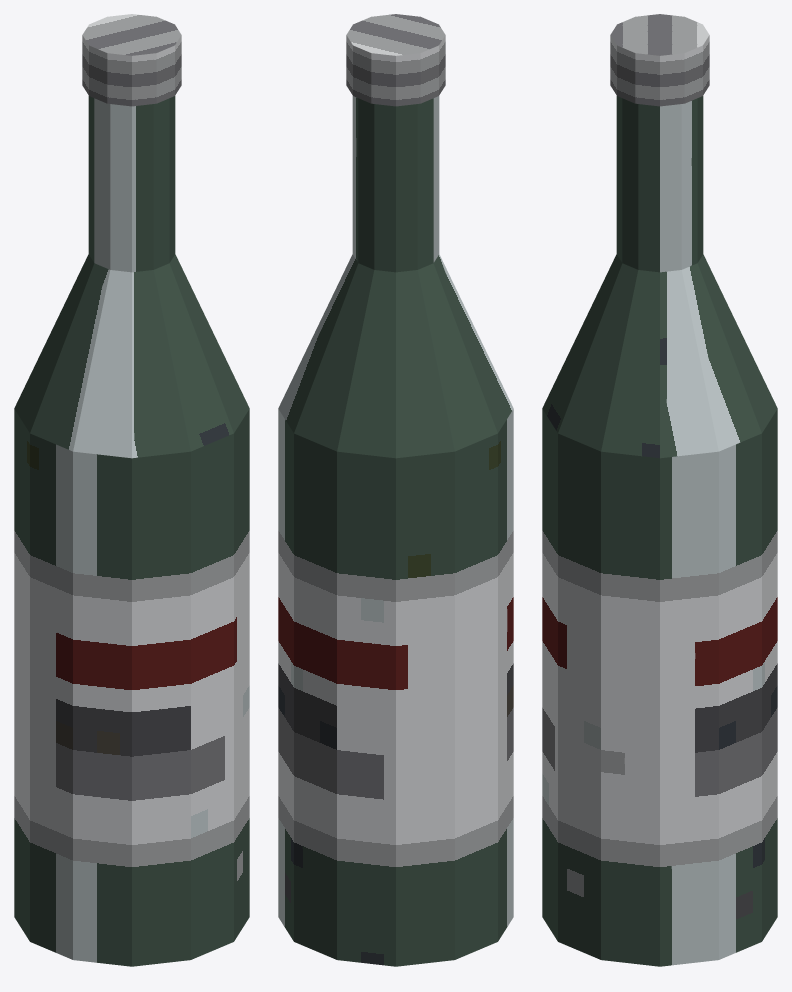
File: SM_Prop_BottleVodka_01.glb
The picture shows the model from 3 angles, left to right: view 1: azimuth 30°, elevation 25°; view 2: azimuth 150°, elevation 25°; view 3: azimuth 270°, elevation 25°; orthographic projection.
Parts seen in each view (by area): view 1: SM_Prop_BottleVodka_01; view 2: SM_Prop_BottleVodka_01; view 3: SM_Prop_BottleVodka_01.
Boxes of the visible parts, x1,y1,x2,y2 form: SM_Prop_BottleVodka_01: (14,14,249,966); SM_Prop_BottleVodka_01: (278,14,513,966); SM_Prop_BottleVodka_01: (542,14,777,966).
Bounding box in the file's own units: 0.076 × 0.318 × 0.076.
1 material, 1 textured.
